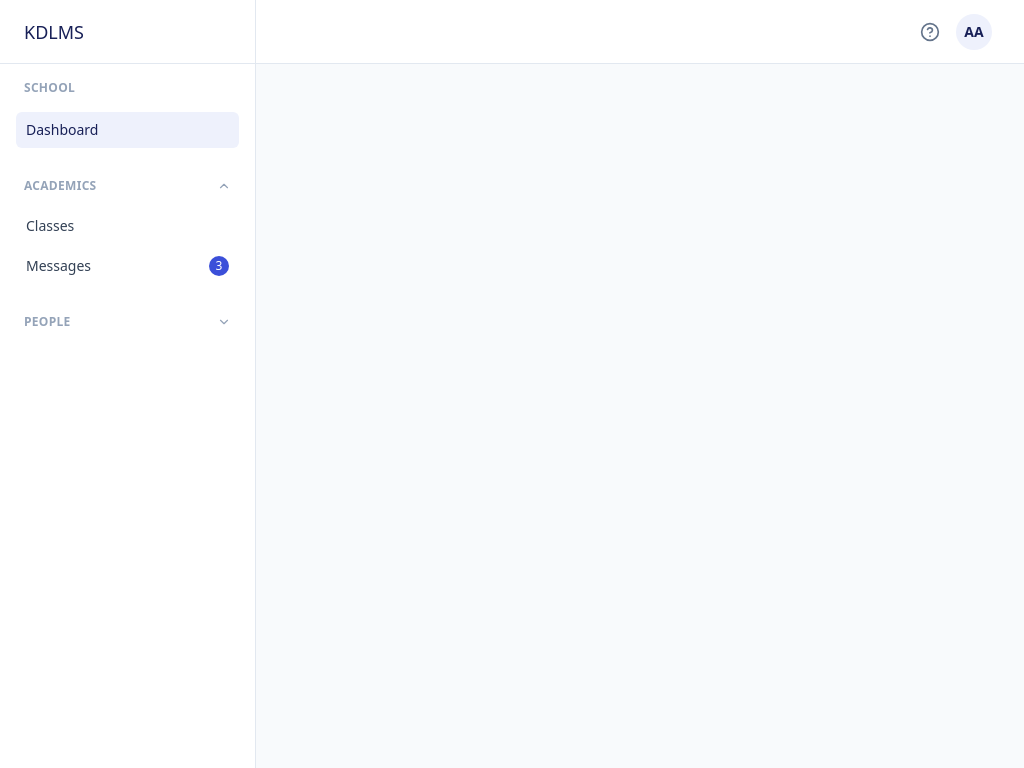
Test: PortalShell collapsible sidebar groups › toggles a group open on click and reveals its items
Expected: the text "Teachers" is not shown
Step 1. Click the button "People" → coordinates (128, 322), box x1=16 y1=308 x2=239 y2=336
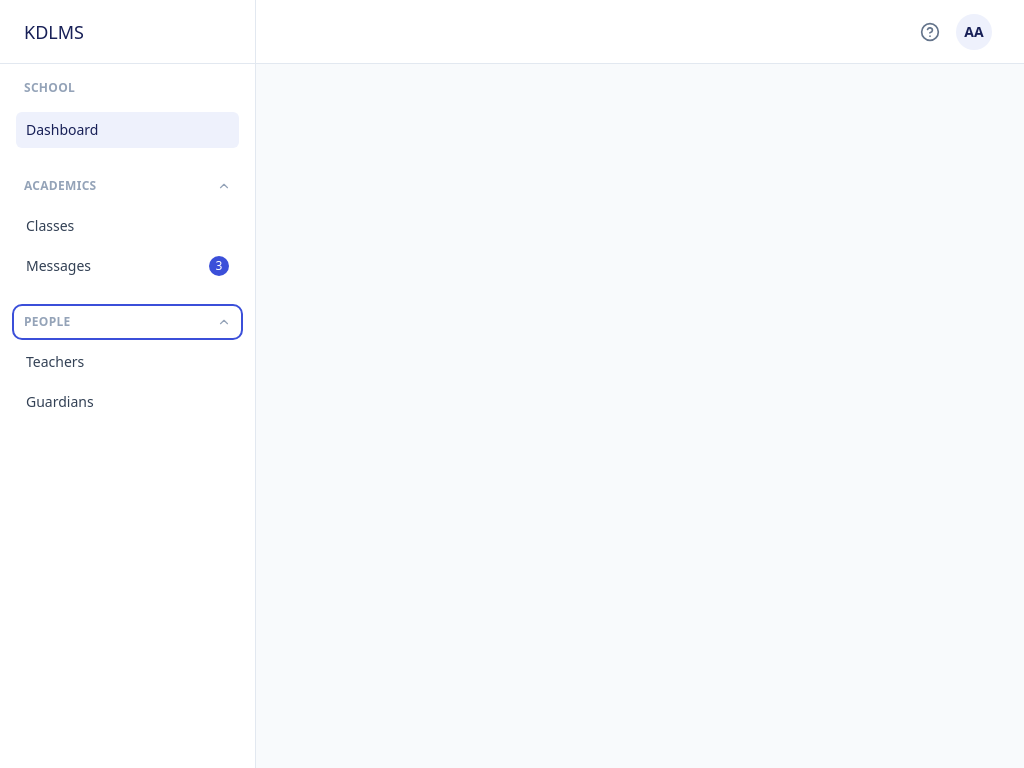
Result: the text "Teachers" is shown at x1=26 y1=352 x2=84 y2=371
